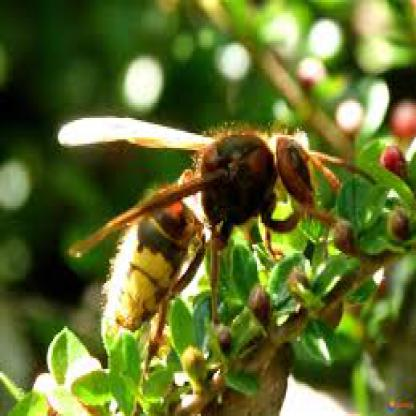european: (54, 103, 352, 362)
